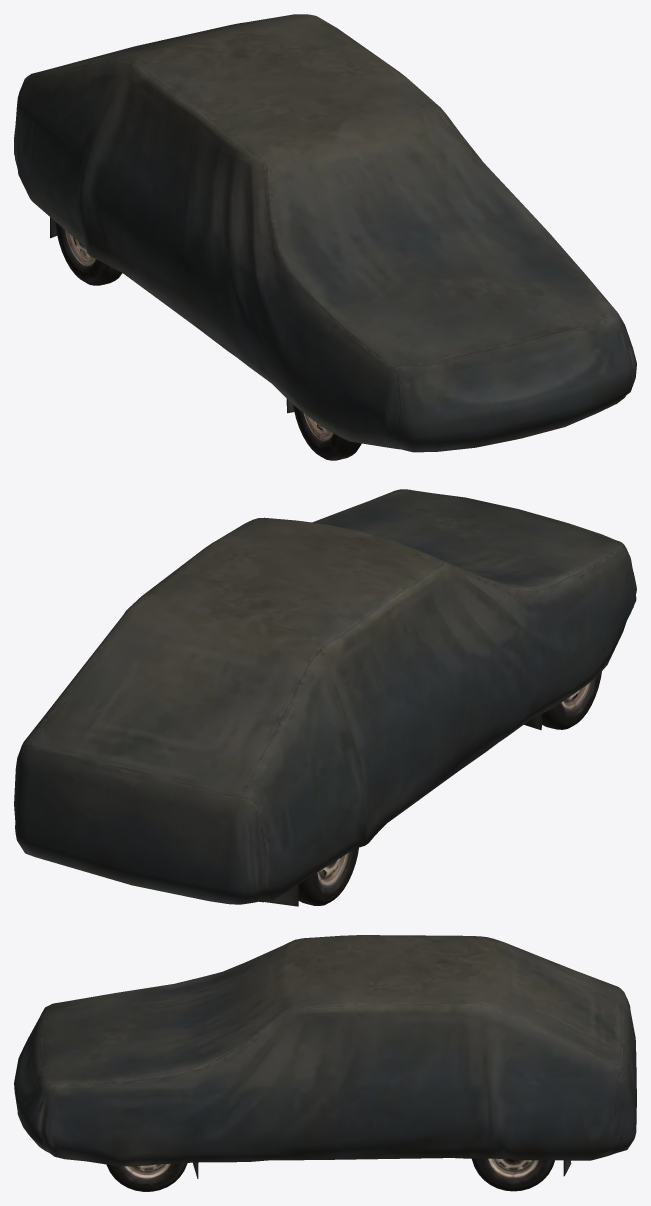
The model's file is desert_car.glb.
3 views of the same model, one above another, from view 1: azimuth 30°, elevation 25°; view 2: azimuth 150°, elevation 25°; view 3: azimuth 270°, elevation 25° (orthographic). The views are drawn at different scales.
Parts seen in each view (by area): view 1: covered_car_wheel_01; view 2: covered_car_wheel_01; view 3: covered_car_wheel_01.
Part boxes in pixels (x1,y1,x2,y2): covered_car_wheel_01: [14, 14, 636, 460]; covered_car_wheel_01: [14, 489, 636, 906]; covered_car_wheel_01: [14, 935, 636, 1191].
Size of the model in its own units: 1.79 by 1.41 by 4.38.
1 material, 1 textured.
